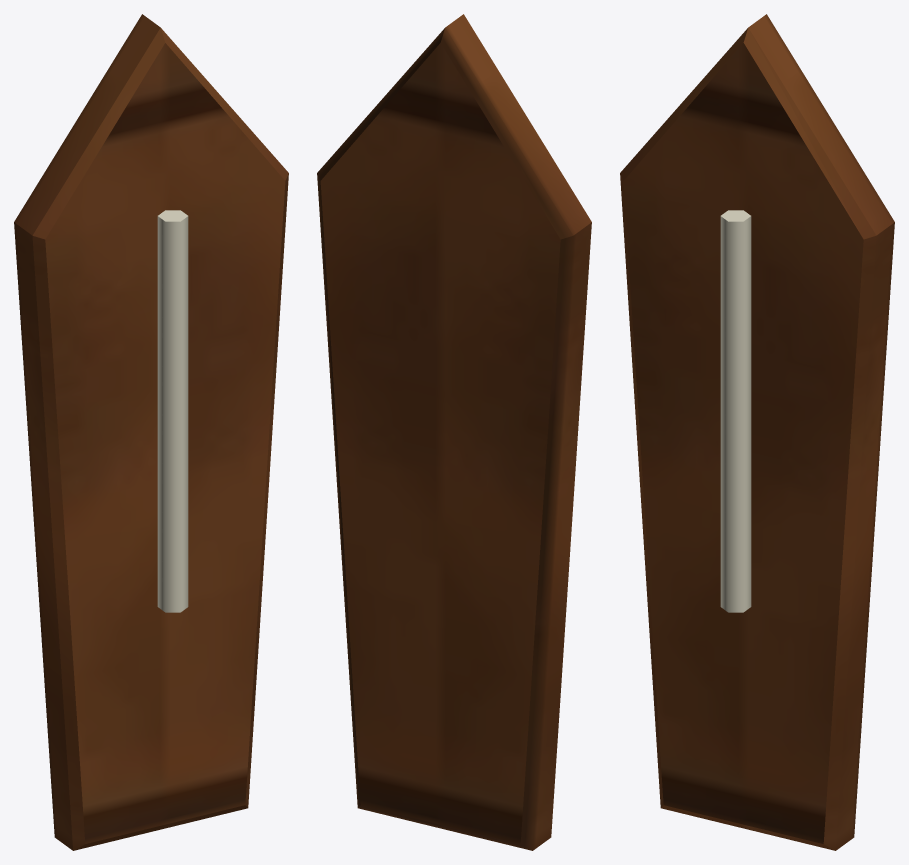
The model's file is primitive-crafting-workshop-netting-shuttle-82747098__21558.glb.
3 views of the same model, side by side, from view 1: azimuth 30°, elevation 25°; view 2: azimuth 150°, elevation 25°; view 3: azimuth 330°, elevation 25° (orthographic).
Parts seen in each view (by area): view 1: netting-shuttle; view 2: netting-shuttle; view 3: netting-shuttle.
Boxes of the visible parts, x1,y1,x2,y2 form: netting-shuttle: (14, 14, 288, 850); netting-shuttle: (317, 14, 591, 850); netting-shuttle: (620, 14, 894, 850).
Size of the model in its own units: 0.0961 by 0.2872 by 0.028.
Materials: 2 (1 with a texture image).
